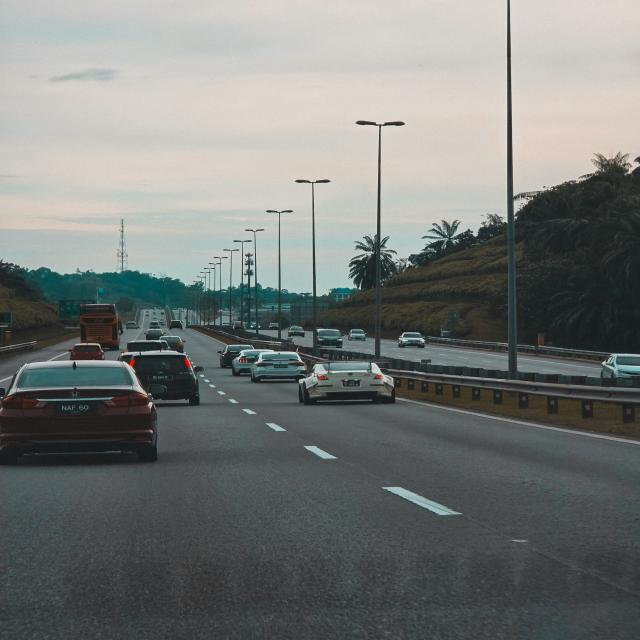Car: (0, 361, 165, 463), (299, 361, 395, 404), (129, 351, 203, 405), (251, 352, 305, 382), (118, 341, 172, 363), (601, 354, 639, 385), (232, 350, 273, 376), (218, 345, 254, 367), (69, 343, 104, 360), (126, 338, 168, 352), (317, 329, 342, 347), (399, 332, 425, 347), (163, 336, 184, 352), (146, 328, 164, 339), (348, 330, 366, 340), (288, 327, 304, 337), (170, 320, 183, 329), (127, 321, 139, 329), (233, 321, 245, 329), (149, 321, 160, 328), (269, 323, 278, 330), (251, 323, 261, 329), (222, 322, 230, 327), (160, 320, 165, 326), (160, 310, 164, 315), (146, 312, 149, 316)
bus: (80, 304, 121, 349)
